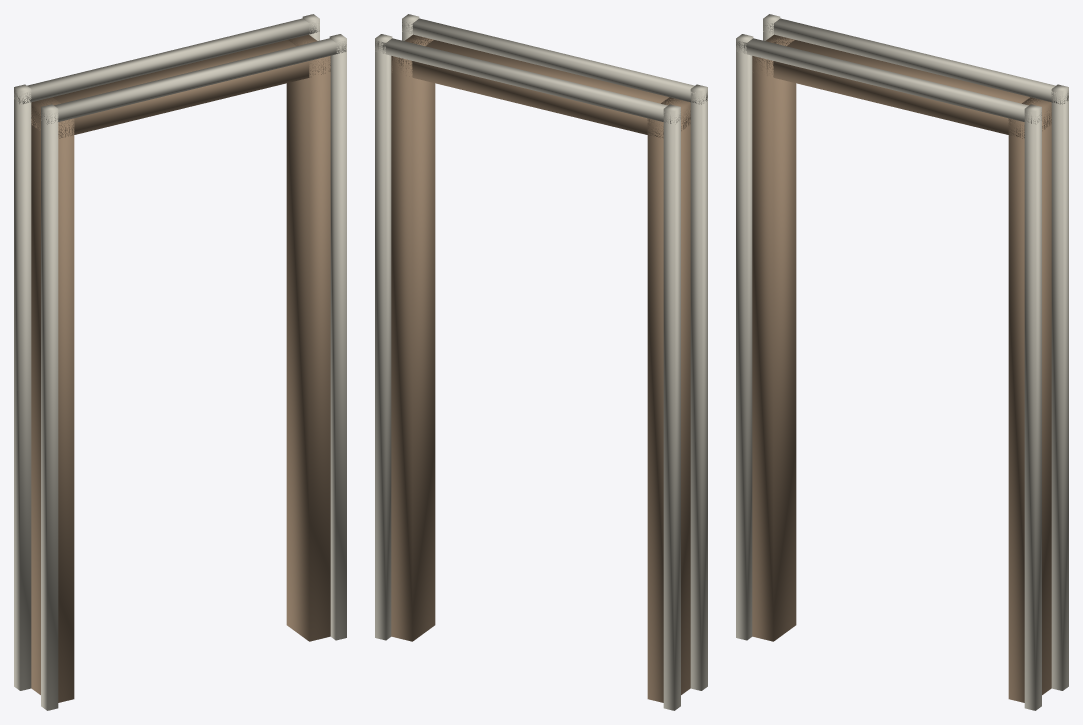
The model's file is doorway_painted_trim_w96_h220_d16.glb.
3 views of the same model, side by side, from view 1: azimuth 30°, elevation 25°; view 2: azimuth 150°, elevation 25°; view 3: azimuth 330°, elevation 25° (orthographic).
Parts seen in each view (by area): view 1: world; view 2: world; view 3: world.
Part boxes in pixels (x1,y1,x2,y2): world: (14,14,346,710); world: (375,14,707,710); world: (736,14,1068,710).
Size of the model in its own units: 1.22 by 2.34 by 0.2365.
